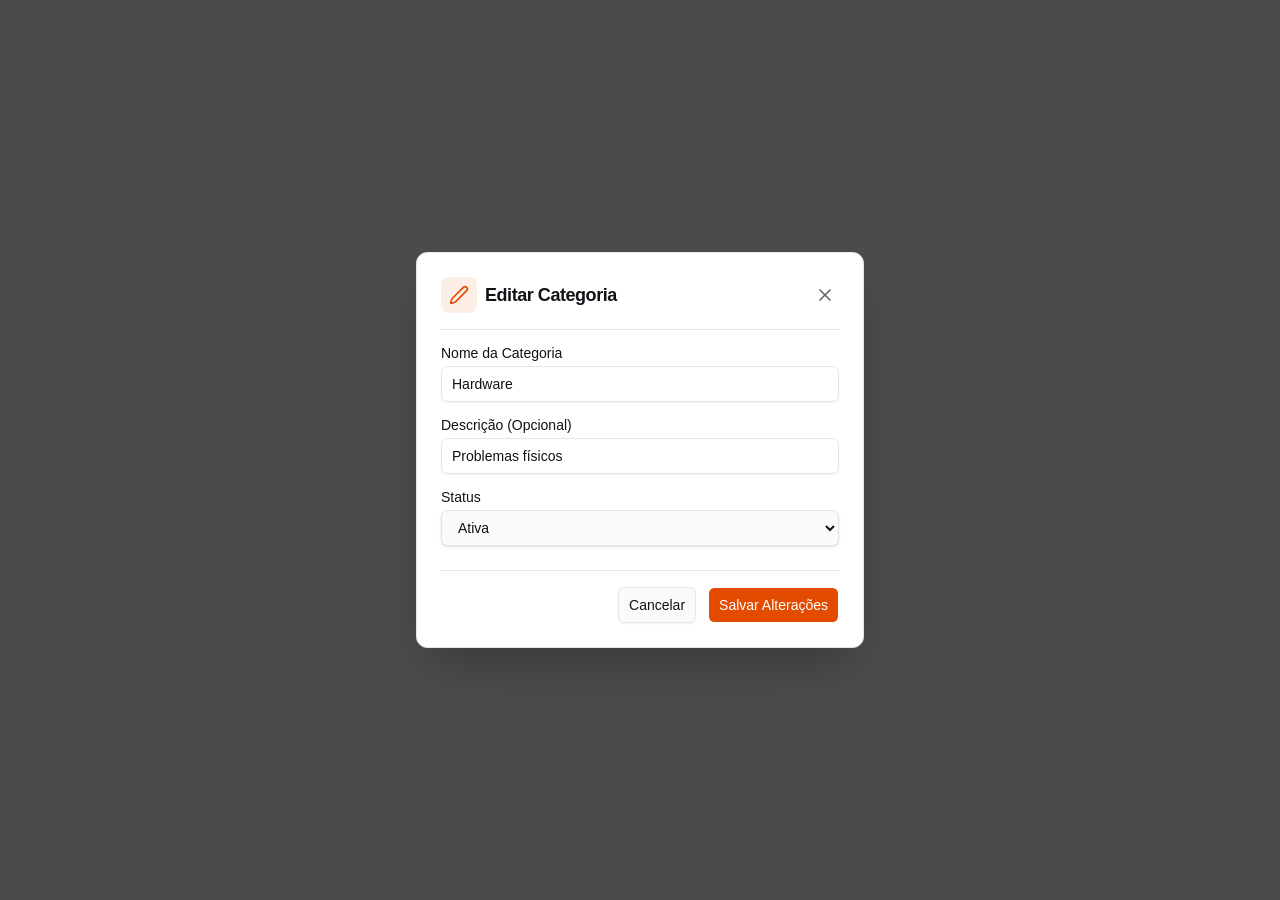
Scenario: EditCategoryModal › deve exibir erro de validação se o nome for limpo e submetido vazio
Clear the field labelled "Nome da Categoria". click: (640, 384)
box: x1=441 y1=366 x2=839 y2=402
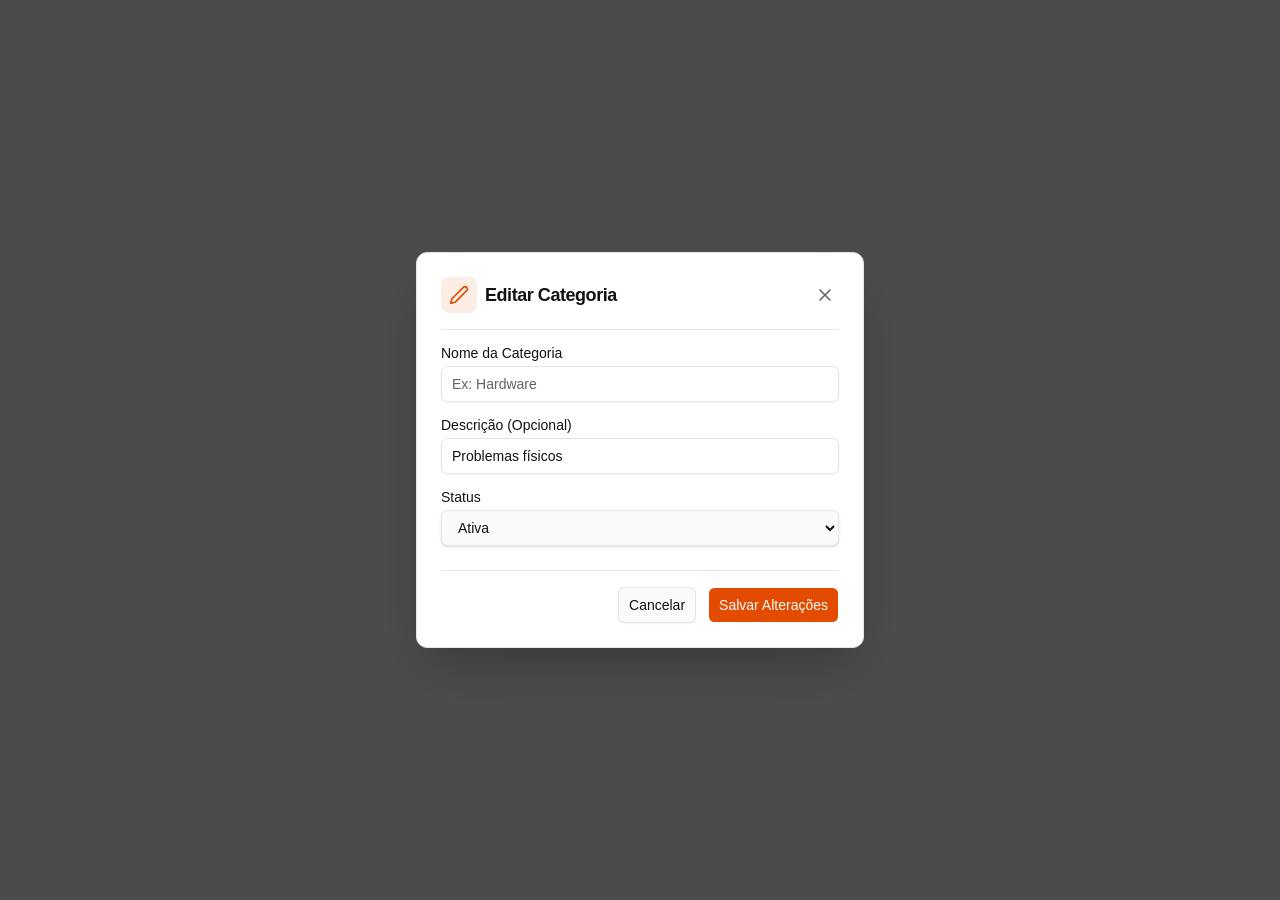
Click the button "Salvar Alterações". click: (774, 605)
box: x1=708 y1=587 x2=839 y2=623
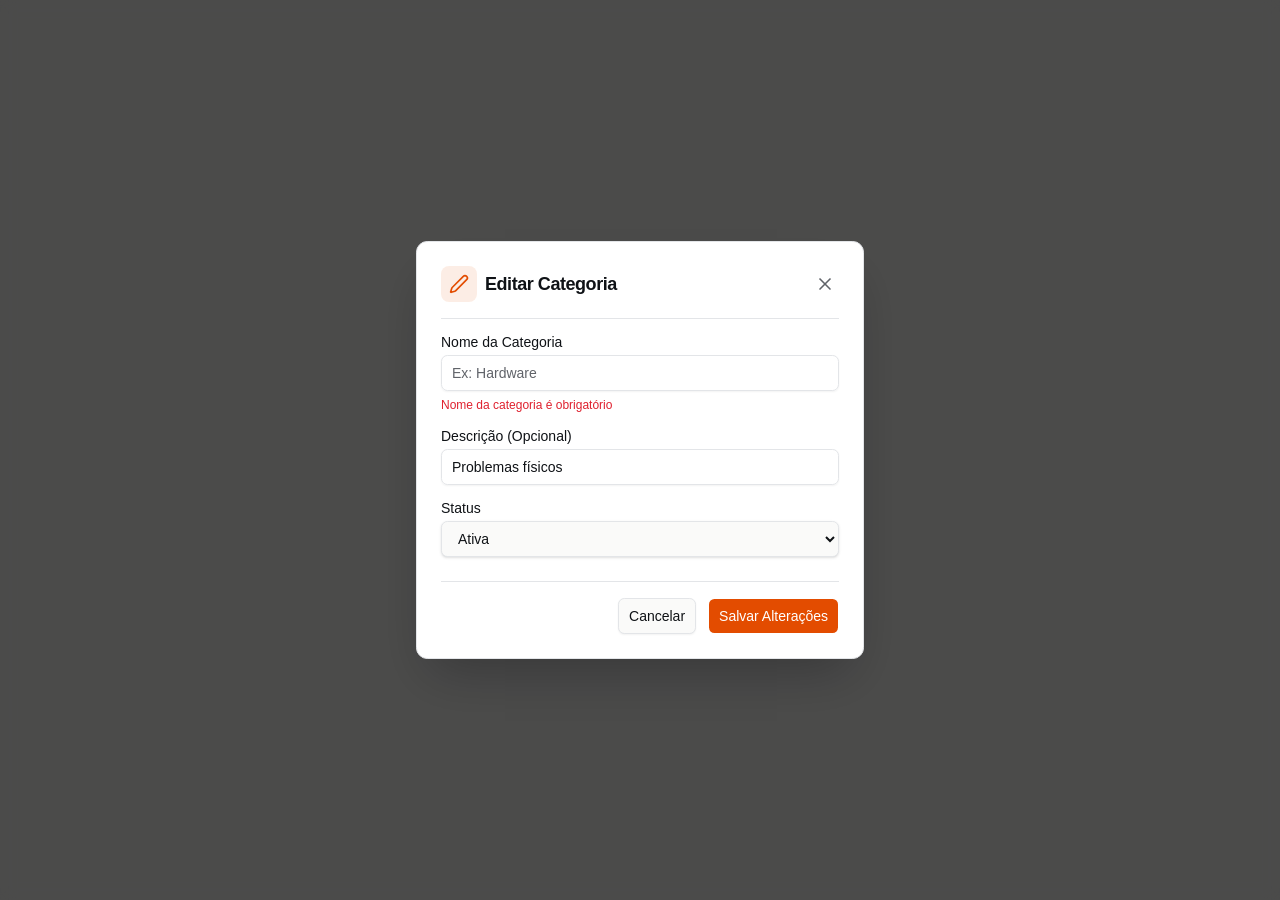
Expected: the text "Nome da categoria é obrigatório" is shown, x1=441 y1=398 x2=612 y2=412
